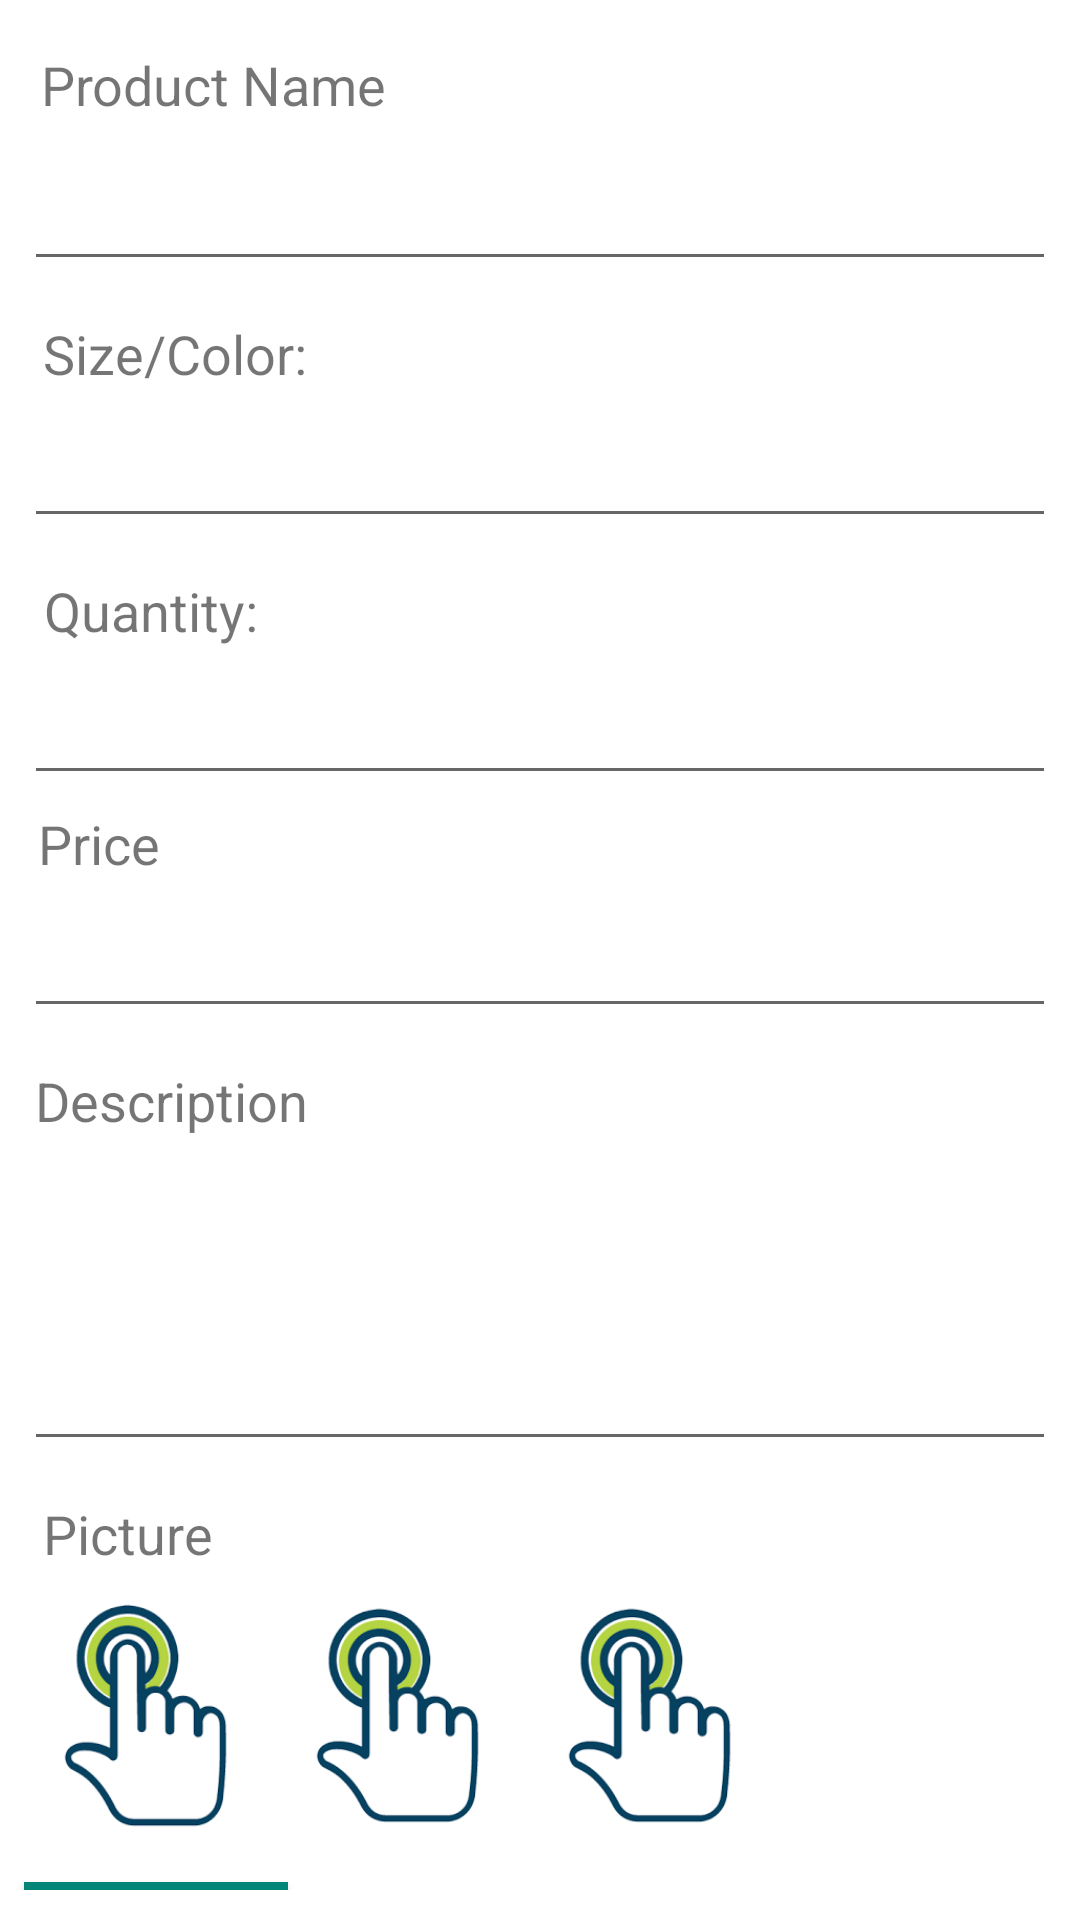

Icon click points for this 1080 × 1920 phone screenshot, format [x,y]:
select: [146,1715], [398,1715], [650,1715]
